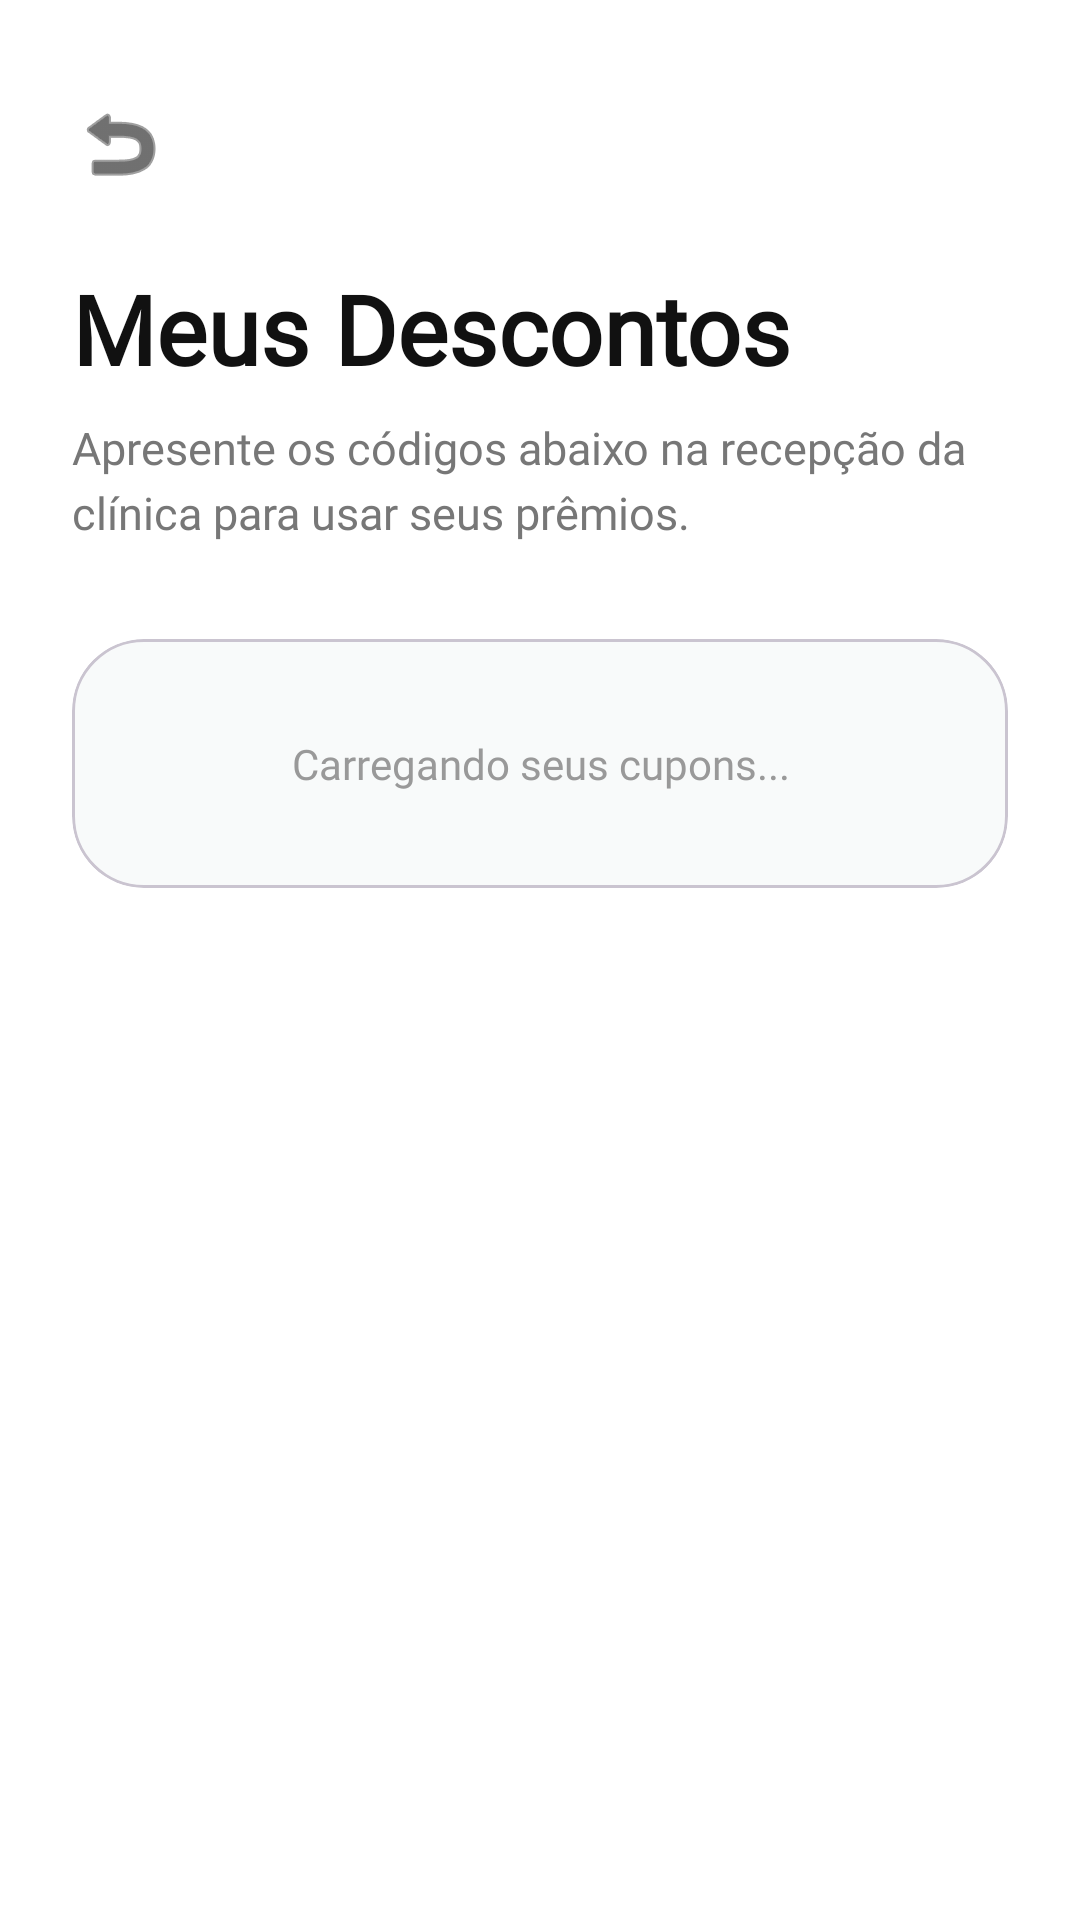

Named icons in this screenshot (1080px x 1920px) and their bounding boxes, rect(x1, y1, x2, y2):
revert: rect(87, 113, 156, 176)
